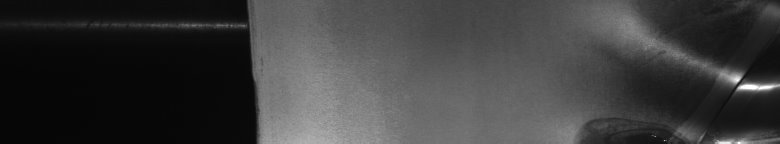ke: (580, 36, 776, 136)
